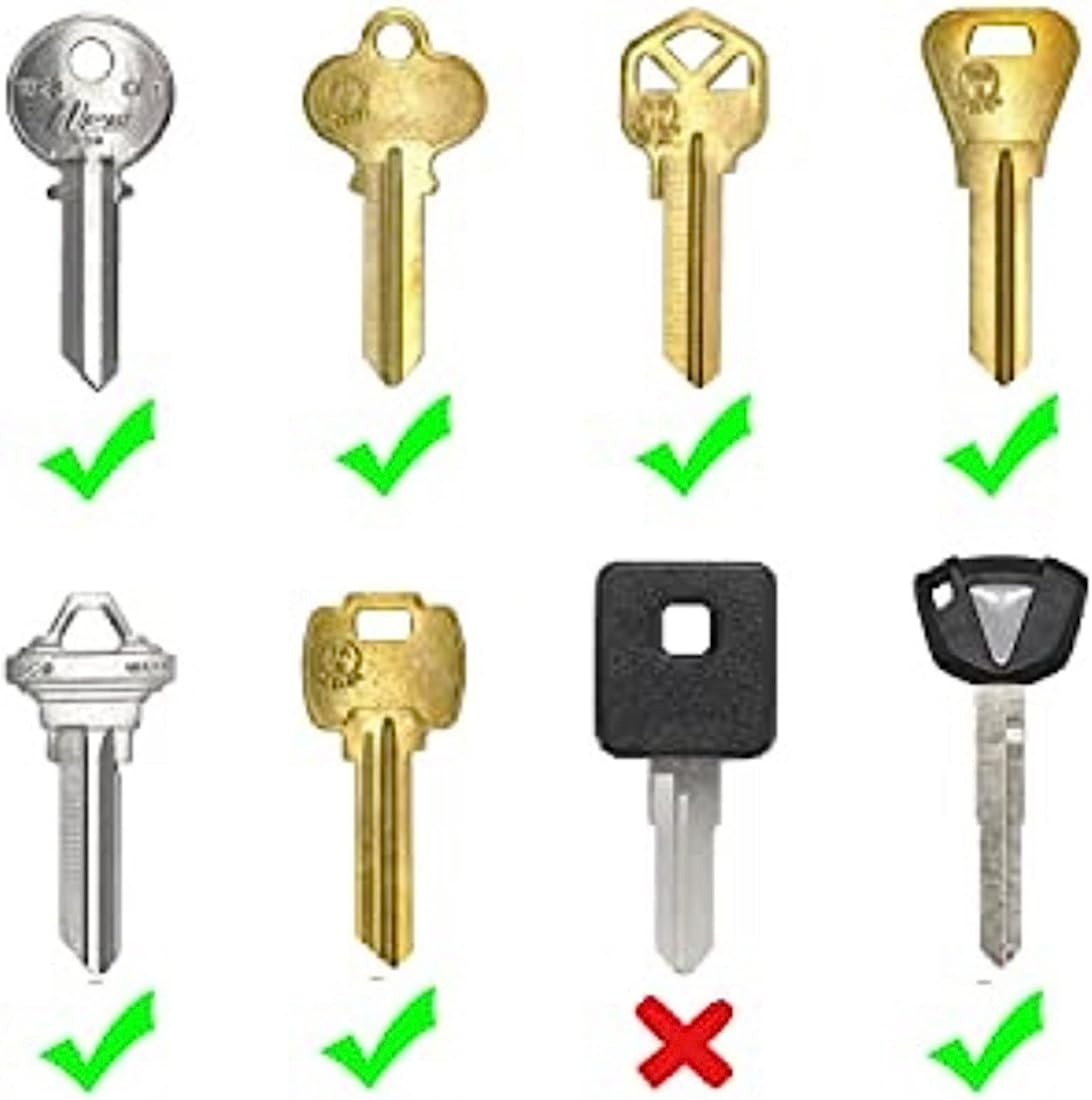key: (588, 561, 783, 978), (299, 6, 490, 390), (914, 551, 1087, 973), (3, 592, 181, 979), (296, 587, 473, 972), (10, 15, 181, 390), (918, 7, 1082, 388), (615, 7, 772, 390)
